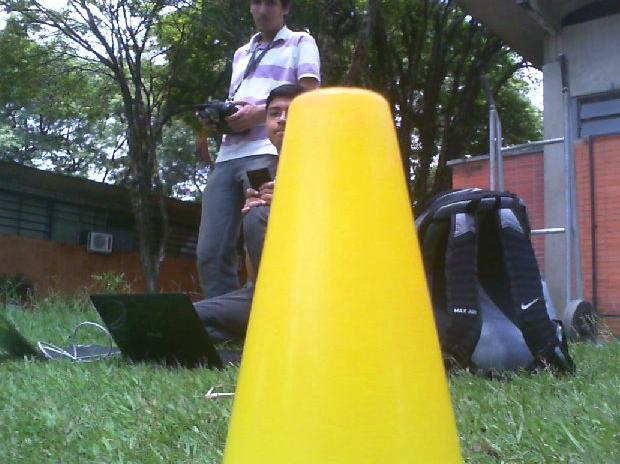0 cone: (222, 88, 462, 464)
